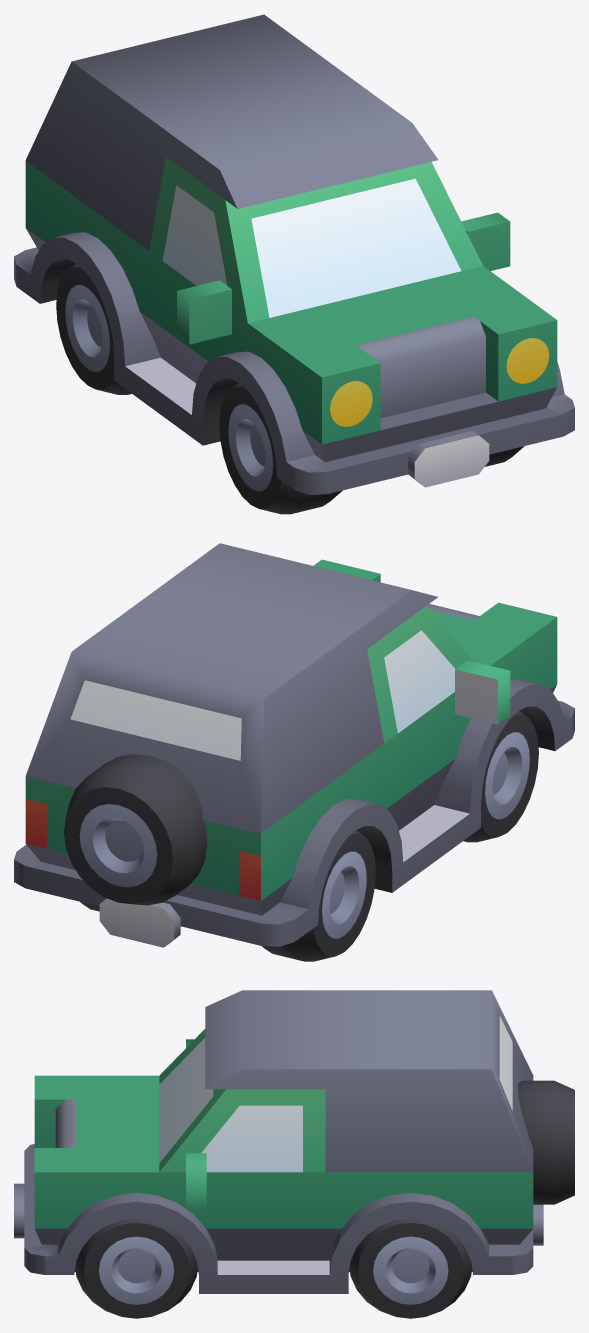
The model's file is car-suv.obj.
3 renders of one model, top to bottom at view 1: azimuth 30°, elevation 25°; view 2: azimuth 150°, elevation 25°; view 3: azimuth 270°, elevation 25°, orthographic. The views are drawn at different scales.
Parts seen in each view (by area): view 1: body, wheel-front-right, wheel-back-right; view 2: body, wheel-back, wheel-back-right, wheel-front-right; view 3: body, wheel-back-left, wheel-front-left, wheel-back.
Boxes of the visible parts, bbox=[...] form: body: bbox=[14, 14, 574, 494]; wheel-front-right: bbox=[219, 382, 342, 514]; wheel-back-right: bbox=[56, 263, 131, 394]; body: bbox=[14, 543, 574, 947]; wheel-back: bbox=[64, 754, 207, 905]; wheel-back-right: bbox=[262, 830, 375, 961]; wheel-front-right: bbox=[463, 710, 538, 842]; body: bbox=[14, 990, 543, 1293]; wheel-back-left: bbox=[349, 1218, 472, 1318]; wheel-front-left: bbox=[75, 1218, 197, 1318]; wheel-back: bbox=[517, 1080, 574, 1204].
Size of the model in its own units: 1.5 by 1.3 by 2.7.
